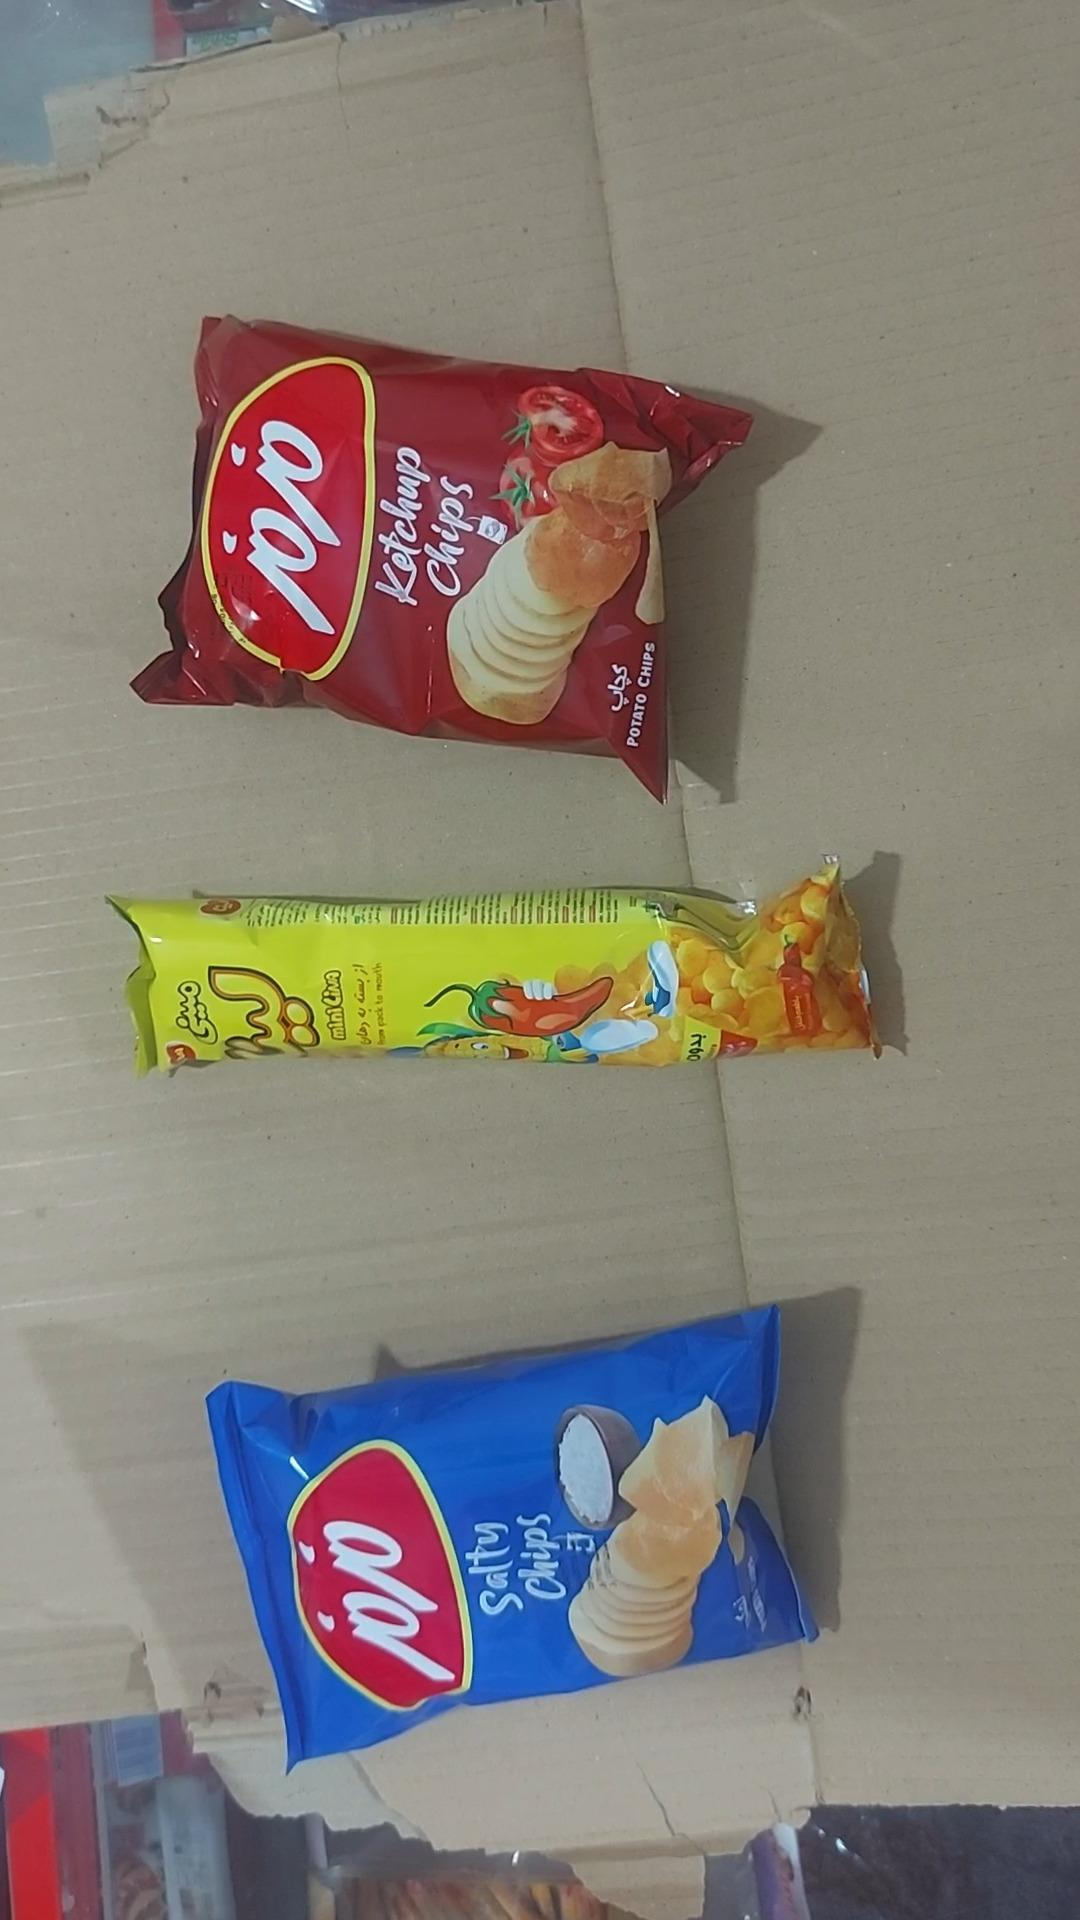Maz Maz ketchup chips: (132, 316, 752, 800)
Maz Maz salty chips: (208, 1307, 815, 1768)
Mini Lina: (111, 864, 880, 1071)
